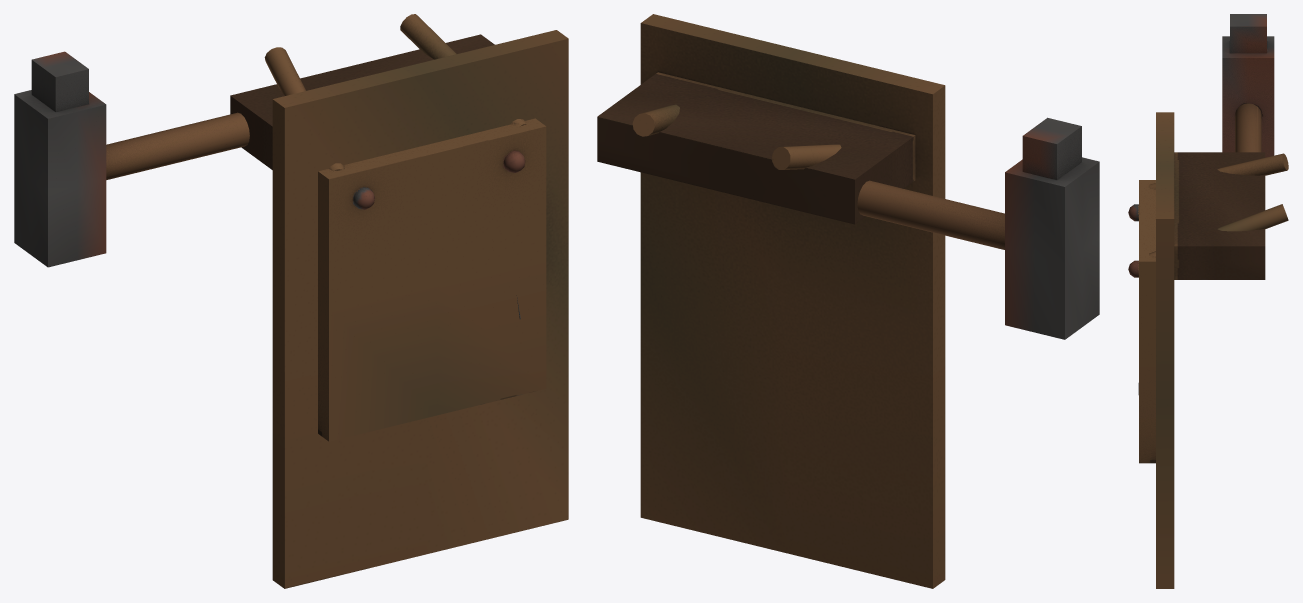
Rendered from npc_ferreiro.glb.
3 views of the same model, side by side, from view 1: azimuth 30°, elevation 25°; view 2: azimuth 150°, elevation 25°; view 3: azimuth 270°, elevation 25° (orthographic). The views are drawn at different scales.
Parts seen in each view (by area): view 1: ferreiro_Hips_peca, ferreiro_Spine2_peca, ferreiro_RightHand_peca; view 2: ferreiro_Hips_peca, ferreiro_RightHand_peca, ferreiro_Spine2_peca; view 3: ferreiro_Hips_peca, ferreiro_Spine2_peca, ferreiro_RightHand_peca.
Boxes of the visible parts, bbox=[...] form: ferreiro_Hips_peca: bbox=[230, 30, 568, 588]; ferreiro_Spine2_peca: bbox=[264, 14, 546, 441]; ferreiro_RightHand_peca: bbox=[14, 51, 249, 267]; ferreiro_Hips_peca: bbox=[597, 14, 945, 588]; ferreiro_RightHand_peca: bbox=[857, 117, 1099, 339]; ferreiro_Spine2_peca: bbox=[632, 104, 841, 169]; ferreiro_Hips_peca: bbox=[1138, 112, 1265, 588]; ferreiro_Spine2_peca: bbox=[1128, 153, 1288, 463]; ferreiro_RightHand_peca: bbox=[1222, 14, 1274, 157].
Bounding box in the file's own units: 0.5714 × 0.5953 × 0.2162.
3 materials, 3 textured.
